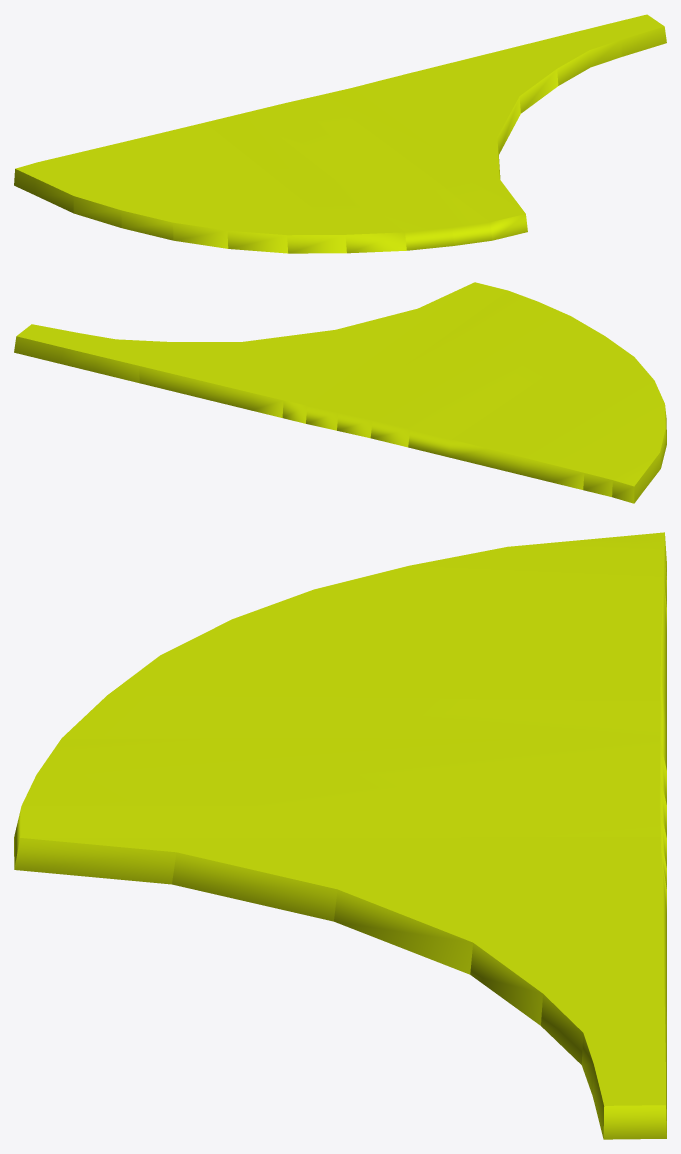
The model's file is Exit_Turn_02.fbx.
3 renders of one model, top to bottom at view 1: azimuth 30°, elevation 25°; view 2: azimuth 150°, elevation 25°; view 3: azimuth 270°, elevation 25°, orthographic. The views are drawn at different scales.
Parts seen in each view (by area): view 1: Exit_Turn_02; view 2: Exit_Turn_02; view 3: Exit_Turn_02.
Boxes of the visible parts, x1,y1,x2,y2 form: Exit_Turn_02: [14, 14, 666, 253]; Exit_Turn_02: [14, 282, 666, 503]; Exit_Turn_02: [14, 532, 666, 1139].
Bounding box in the file's own units: 8.73 × 0.2418 × 4.19.
